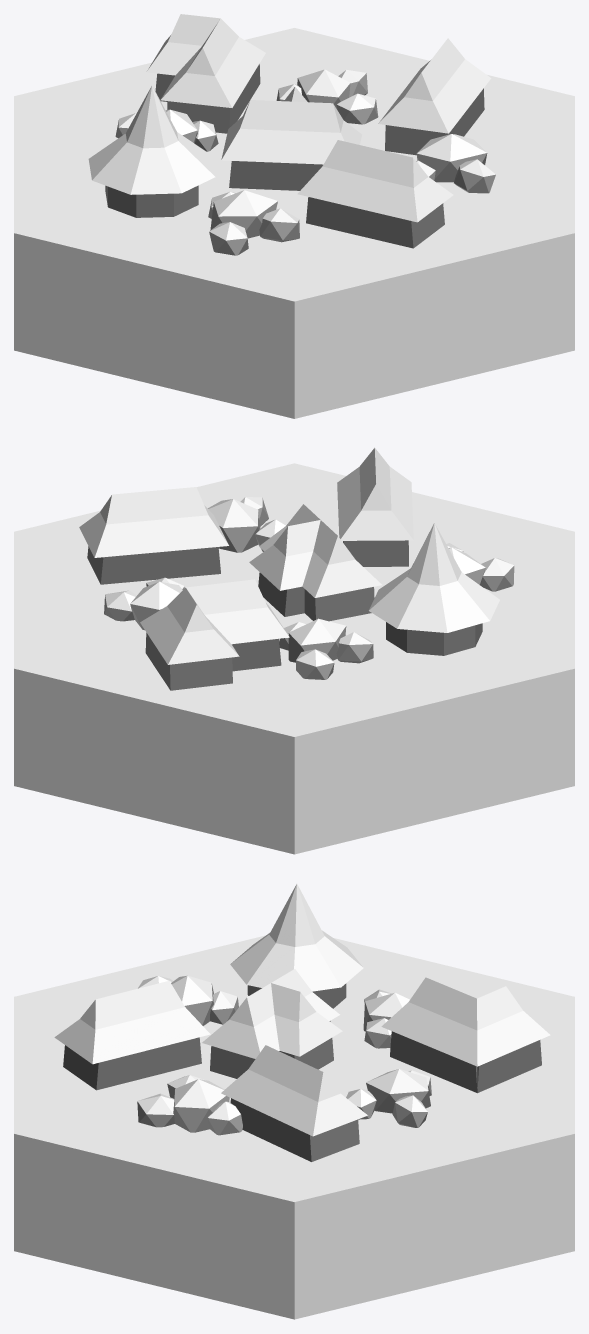
The model's file is Casas_Nieve_03.fbx.
The picture shows the model from 3 angles, top to bottom: view 1: azimuth 30°, elevation 25°; view 2: azimuth 150°, elevation 25°; view 3: azimuth 270°, elevation 25°; orthographic projection.
Parts seen in each view (by area): view 1: Casas_Nieve_03; view 2: Casas_Nieve_03; view 3: Casas_Nieve_03.
Boxes of the visible parts, box(x1,y1,x2,y2) form: Casas_Nieve_03: box(14, 14, 574, 418); Casas_Nieve_03: box(14, 447, 574, 854); Casas_Nieve_03: box(14, 884, 574, 1319).
Bounding box in the file's own units: 200 × 78.5 × 173.
